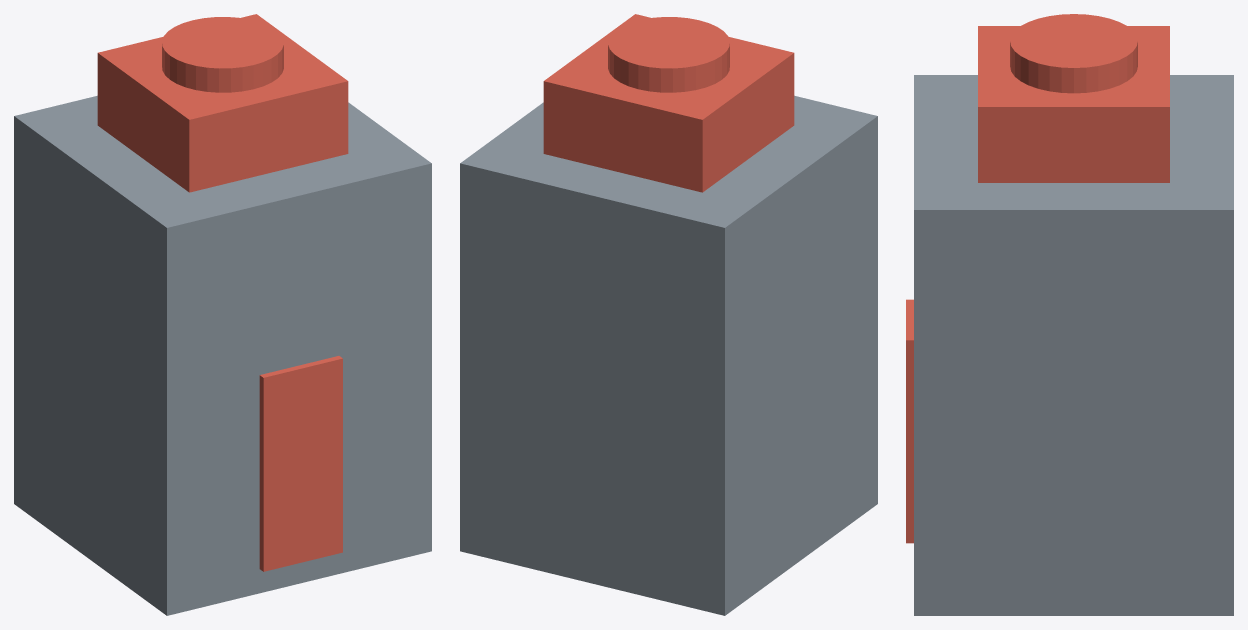
File: SU_Radar_LOD0.glb
3 views of the same model, side by side, from view 1: azimuth 30°, elevation 25°; view 2: azimuth 150°, elevation 25°; view 3: azimuth 270°, elevation 25° (orthographic). The views are drawn at different scales.
Visible parts, largest first — view 1: EntranceGate; view 2: EntranceGate; view 3: EntranceGate.
Boxes of the visible parts, left/top/right/bottom form: EntranceGate: left=14, top=14, right=431, bottom=615; EntranceGate: left=460, top=14, right=877, bottom=615; EntranceGate: left=906, top=14, right=1233, bottom=615.
Size of the model in its own units: 400 by 700 by 410.
